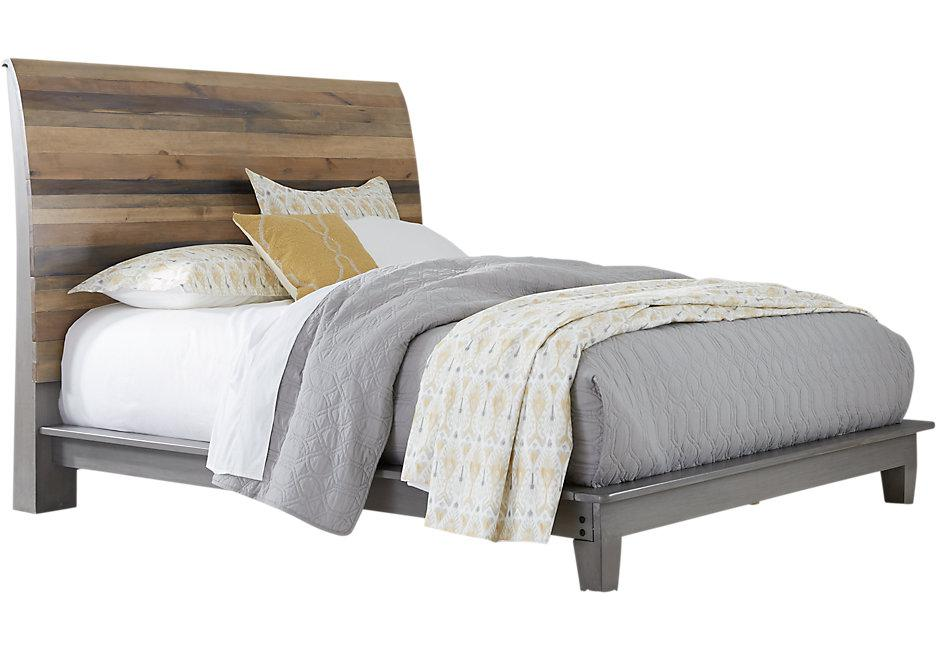bed: (2, 45, 929, 613)
